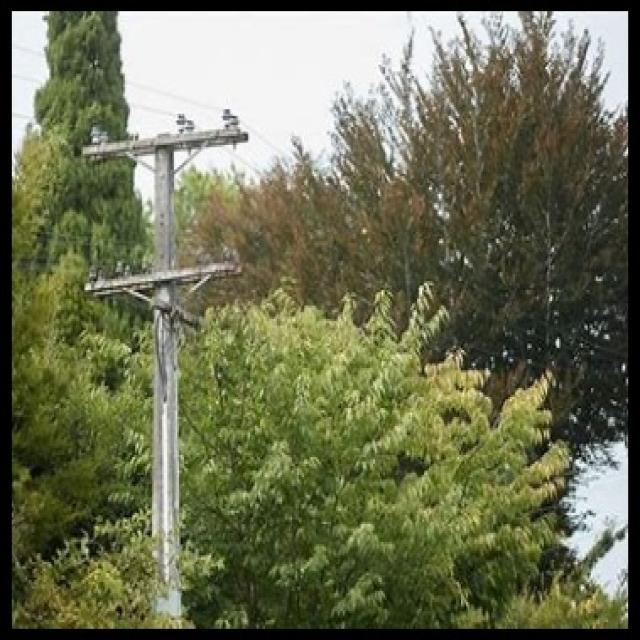utility poles: (76, 101, 260, 618)
